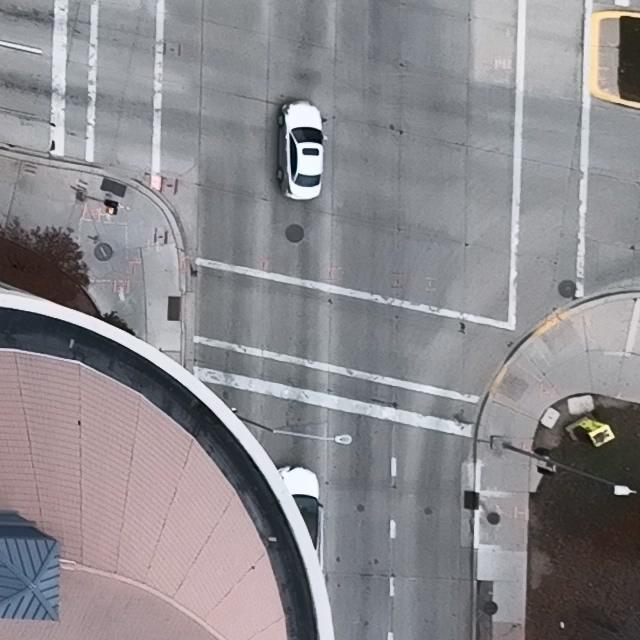car: (277, 100, 328, 201), (277, 465, 323, 555)
